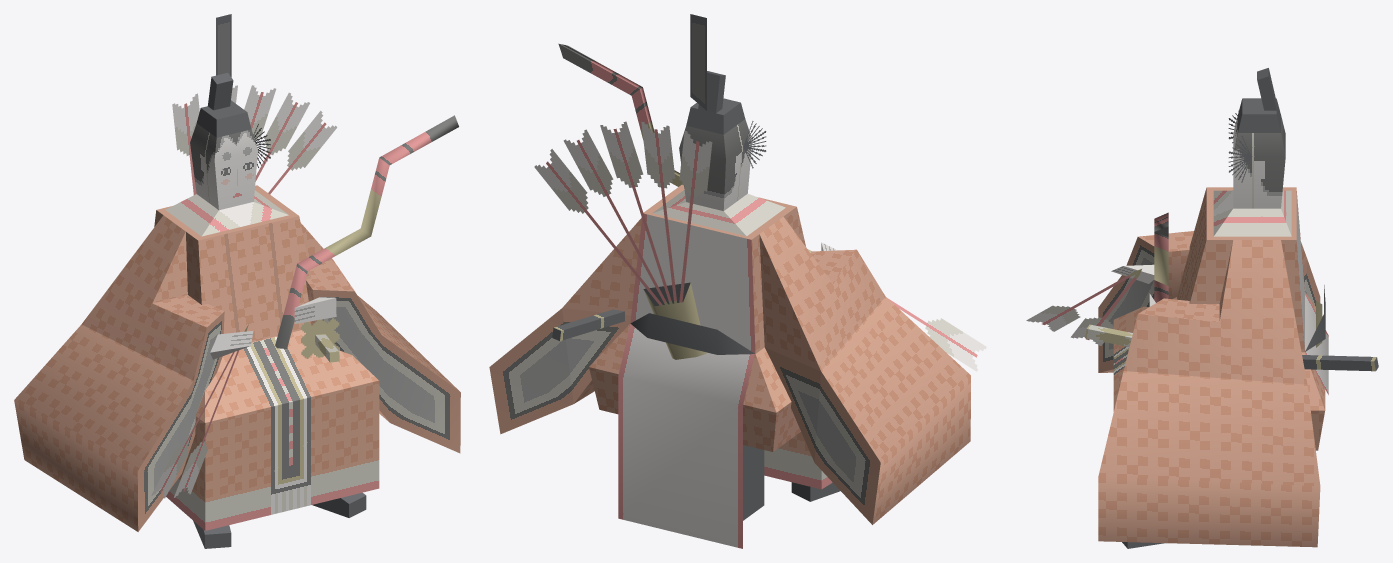
The model's file is 029e_Right_Councillor.glb.
The picture shows the model from 3 angles, left to right: view 1: azimuth 30°, elevation 25°; view 2: azimuth 150°, elevation 25°; view 3: azimuth 270°, elevation 25°; orthographic projection. The views are drawn at different scales.
Visible parts, largest first — view 1: part_0; view 2: part_0; view 3: part_0.
Part boxes in pixels (bbox=[...]): part_0: bbox=[14, 14, 460, 548]; part_0: bbox=[489, 14, 986, 548]; part_0: bbox=[1026, 68, 1378, 548].
Size of the model in its own units: 0.3346 by 0.3983 by 0.2641.
Materials: 1 (1 with a texture image).
